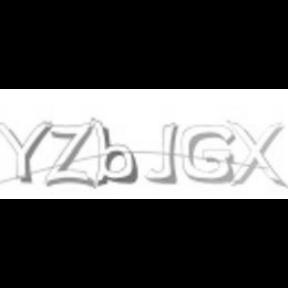G: (178, 124, 236, 184)
J: (144, 121, 182, 185)
X: (231, 118, 286, 188)
Y: (0, 120, 52, 182)
Z: (46, 119, 97, 187)
b: (96, 119, 138, 187)
